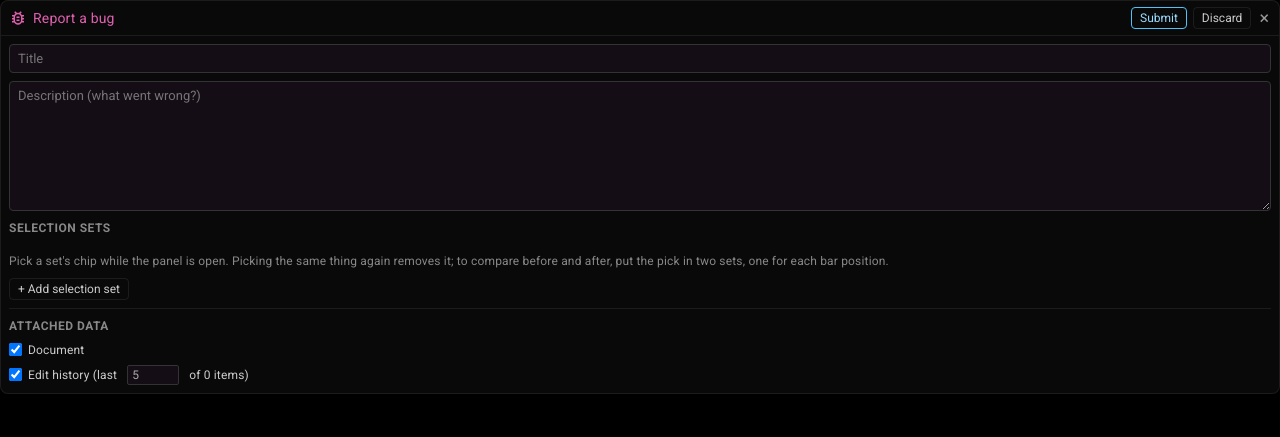
Scenario: BugReportPanel › refuses to submit without a title
Click the button "Submit" at (1159, 18), box [1131,7,1187,29]
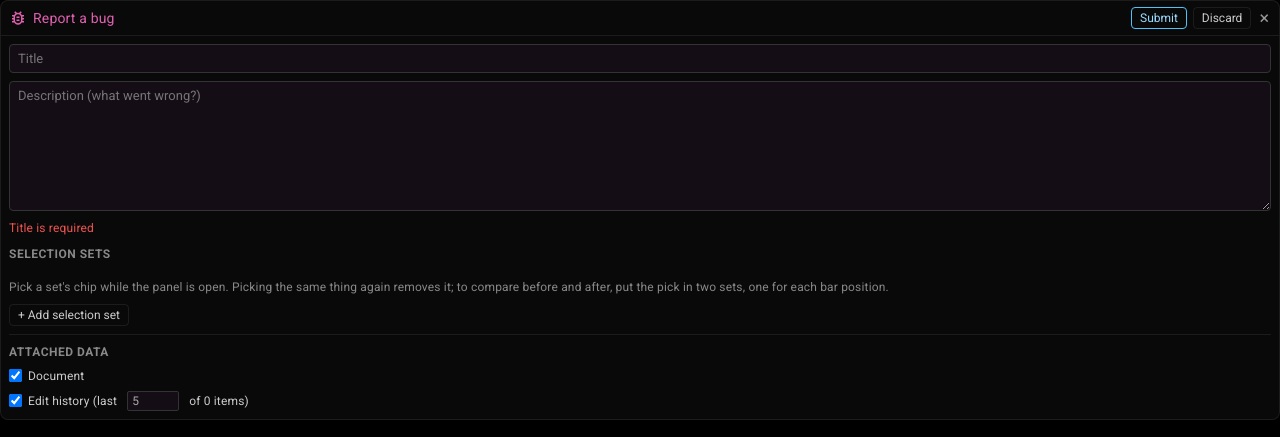
Expected: the text "Title is required" is shown, [9,221,94,235]
